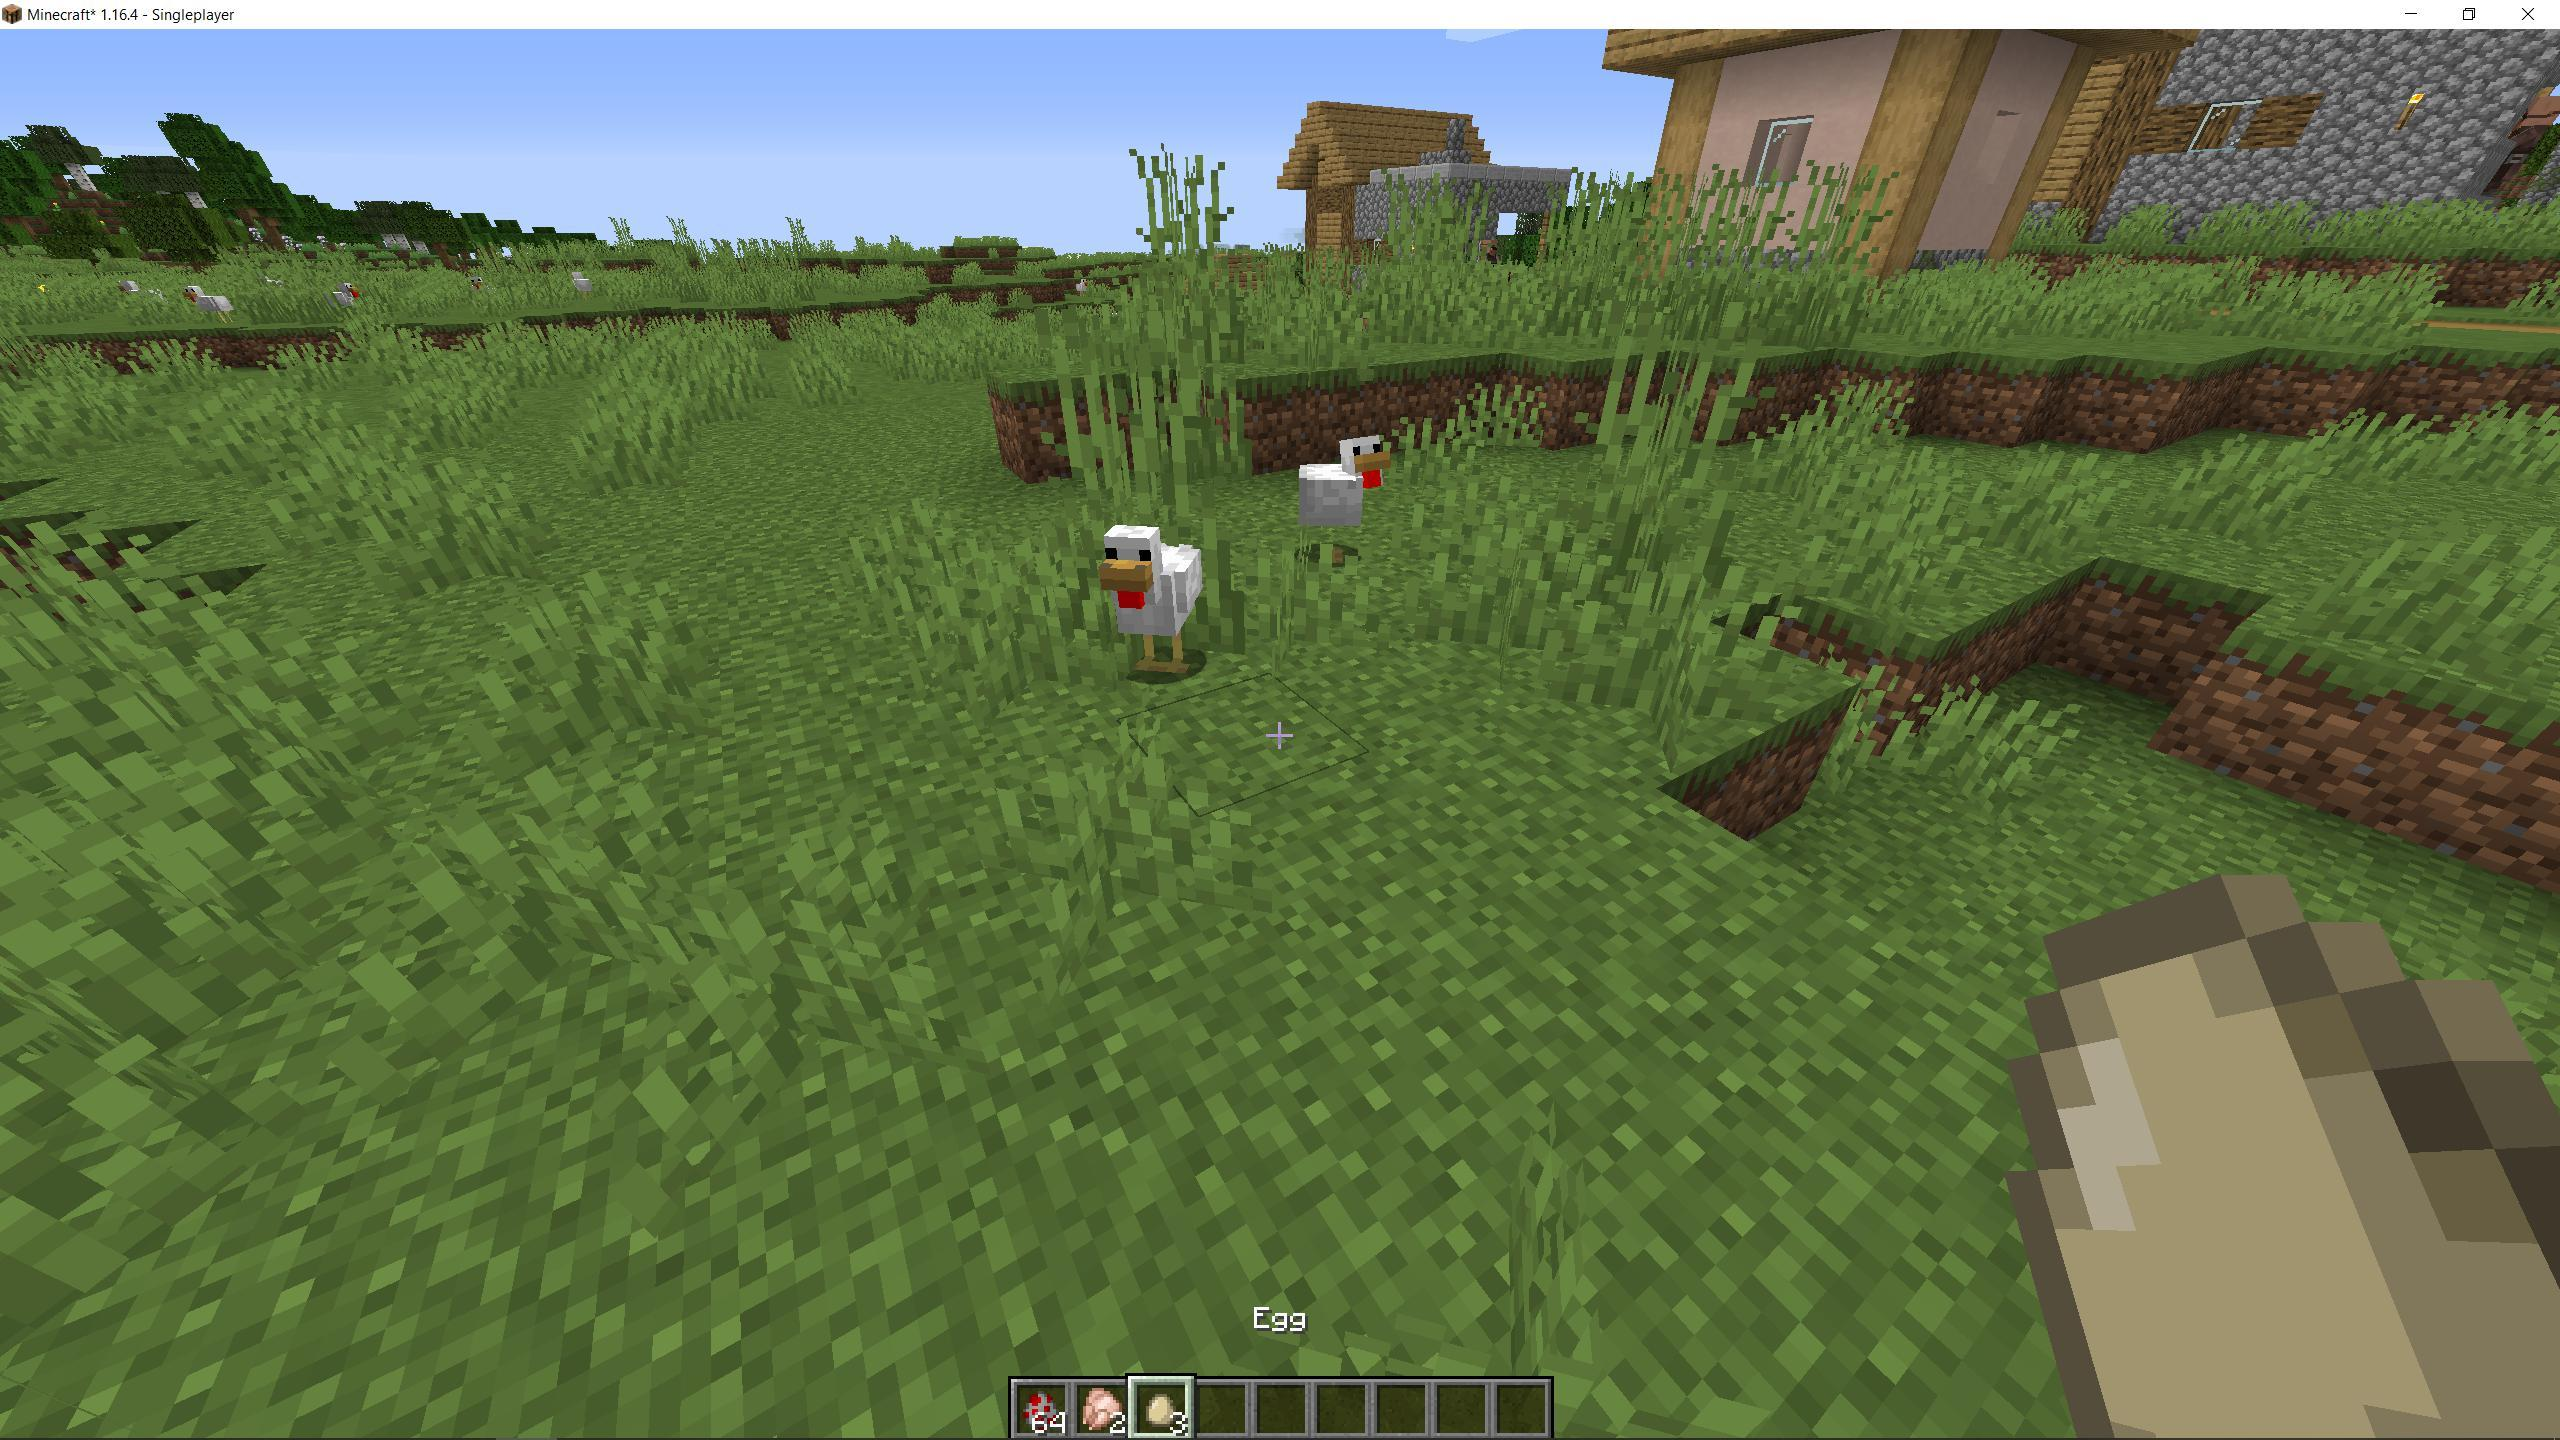chicken: (1094, 522, 1222, 680), (1285, 425, 1398, 570)
